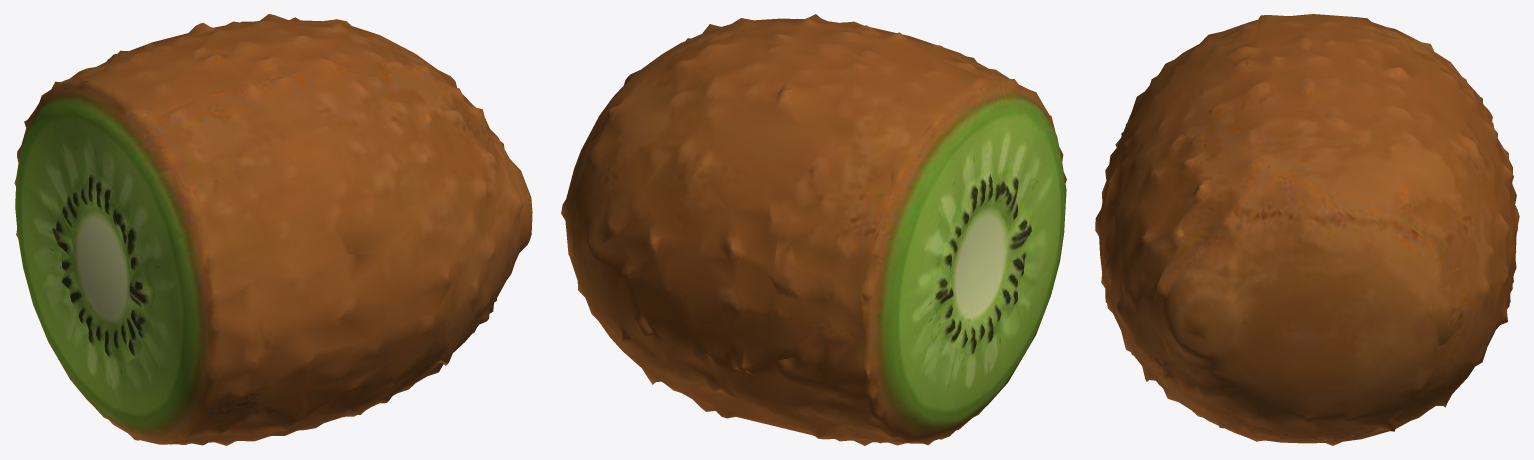
File: giantfruit.glb
The picture shows the model from 3 angles, left to right: view 1: azimuth 30°, elevation 25°; view 2: azimuth 150°, elevation 25°; view 3: azimuth 270°, elevation 25°; orthographic projection. The views are drawn at different scales.
Visible parts, largest first — view 1: model.001; view 2: model.001; view 3: model.001.
Part boxes in pixels (left/top/right/bottom): model.001: left=14, top=14, right=532, bottom=445; model.001: left=561, top=14, right=1066, bottom=445; model.001: left=1095, top=14, right=1519, bottom=445.
Bounding box in the file's own units: 1.85 × 1.72 × 1.88.
Materials: 1 (1 with a texture image).
